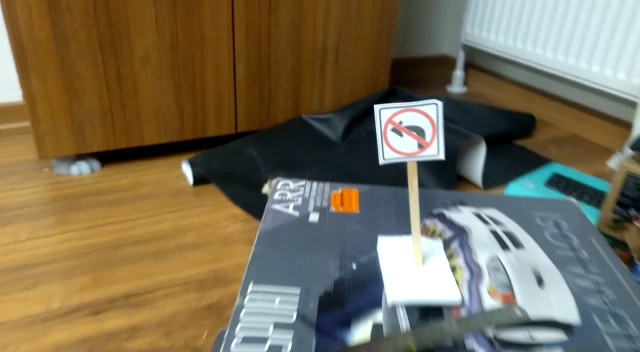sola_donulmez: (381, 101, 441, 161)
